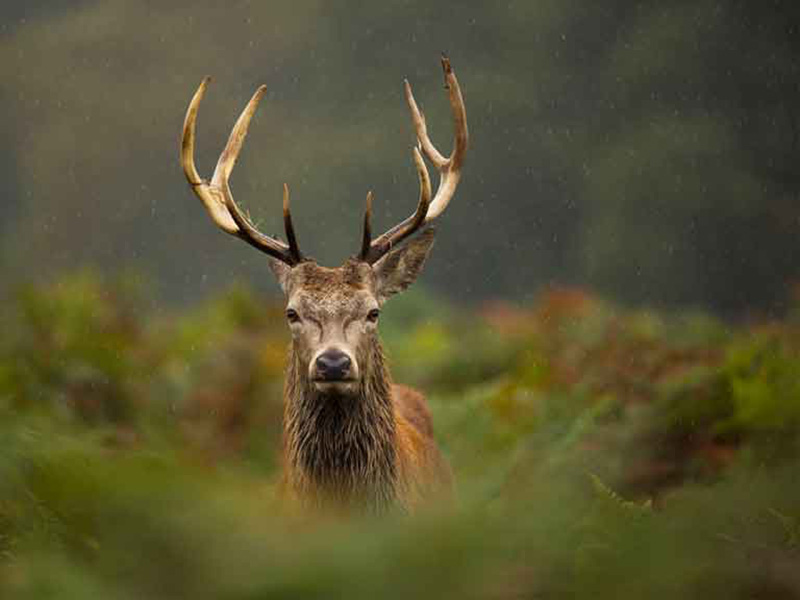cervo: (175, 61, 500, 510)
